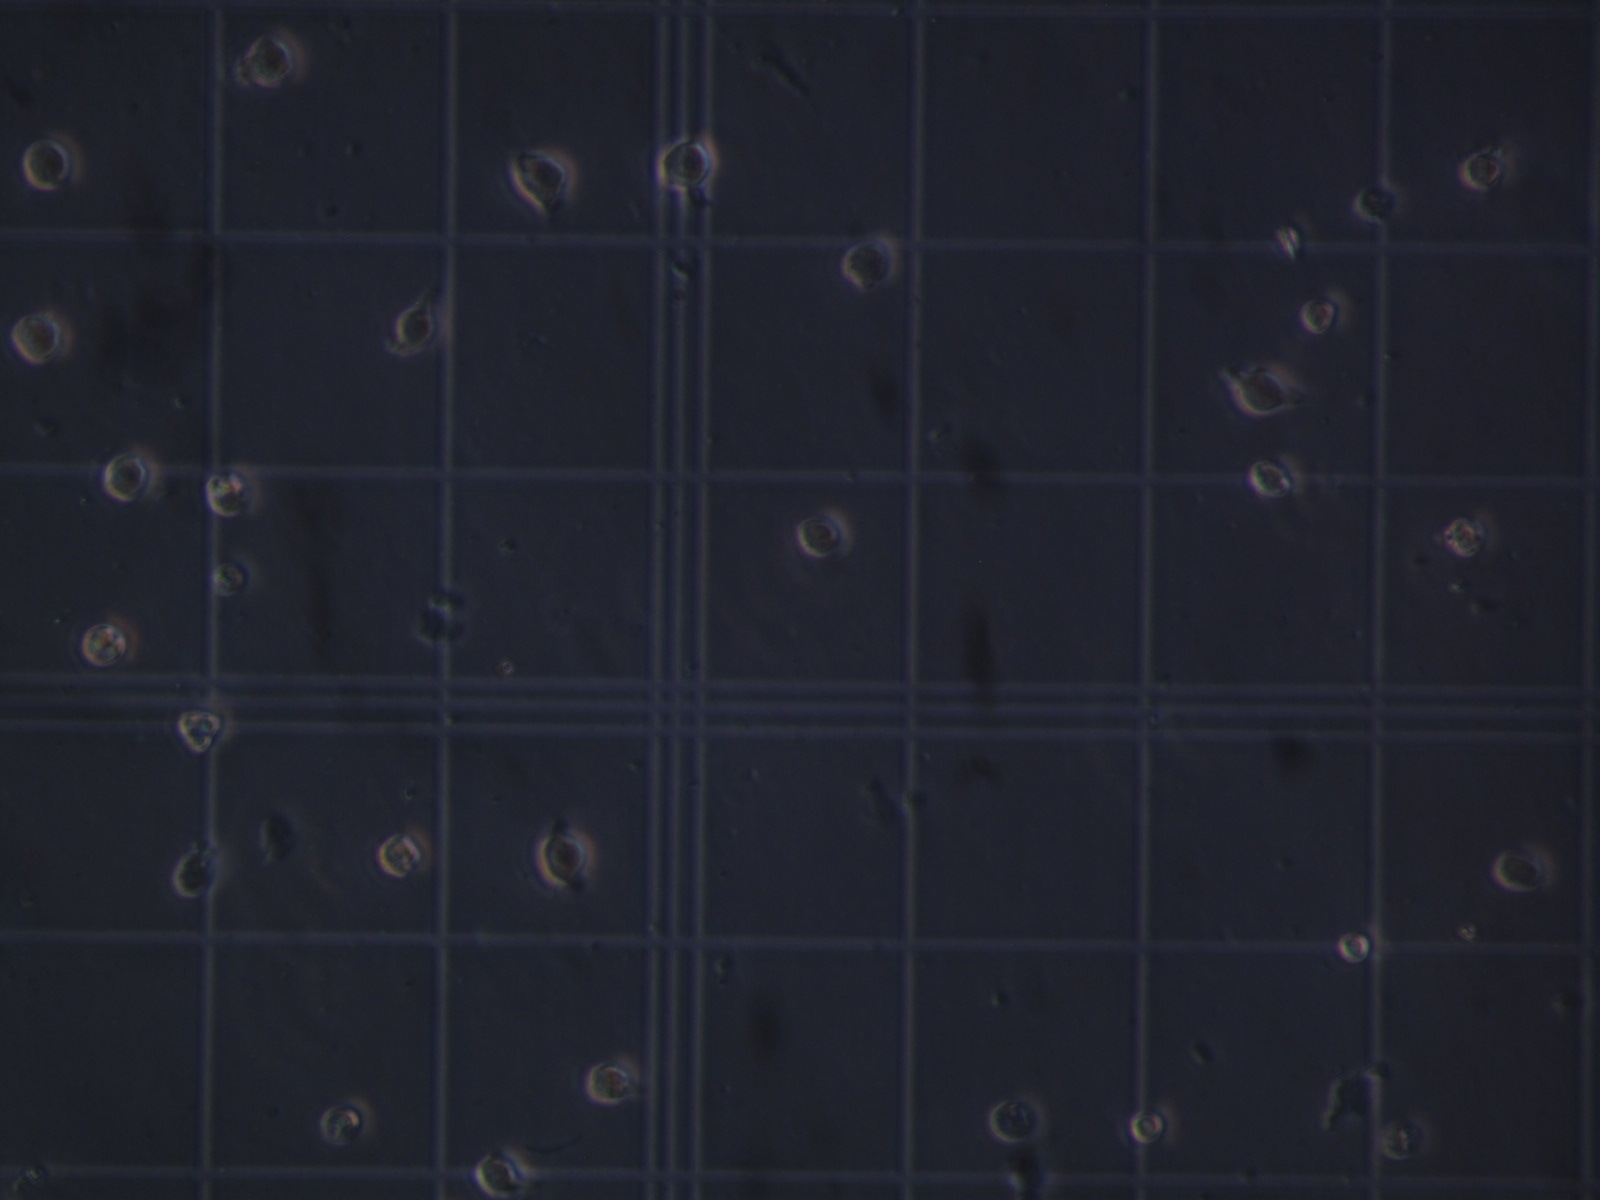hemo: (239, 21, 309, 91), (532, 822, 598, 890), (20, 126, 84, 193), (506, 145, 580, 203), (13, 303, 76, 366), (655, 131, 721, 190), (101, 442, 161, 505), (386, 297, 451, 355), (1494, 834, 1558, 892), (1230, 359, 1296, 415), (176, 696, 236, 758), (840, 229, 901, 287), (81, 611, 139, 671), (375, 821, 435, 879), (1443, 505, 1500, 560), (474, 1146, 533, 1199), (319, 1095, 378, 1147), (205, 463, 261, 517), (586, 1053, 641, 1107), (796, 505, 853, 558), (988, 1093, 1044, 1143), (1247, 453, 1305, 502), (171, 846, 226, 897), (1458, 144, 1516, 192), (1128, 1098, 1178, 1147), (1299, 287, 1349, 335), (1335, 921, 1383, 966), (1353, 180, 1400, 224), (210, 553, 256, 596)
